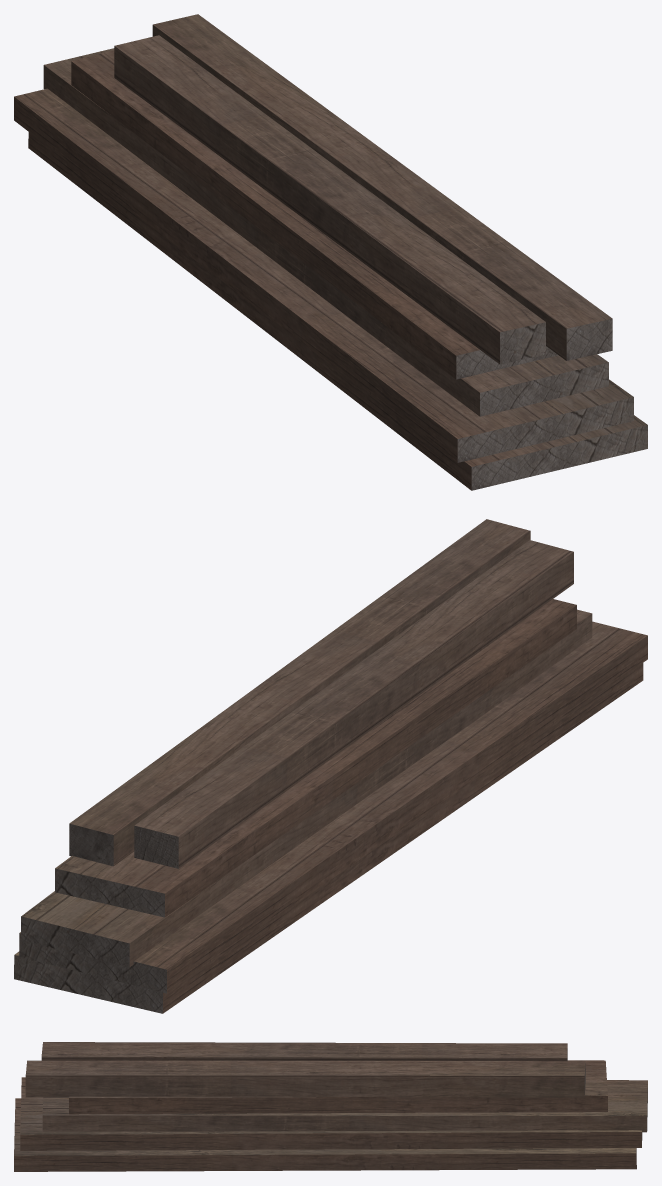
The model's file is jov_house01prop_wood2.fbx.
3 views of the same model, one above another, from view 1: azimuth 30°, elevation 25°; view 2: azimuth 150°, elevation 25°; view 3: azimuth 270°, elevation 25° (orthographic). The views are drawn at different scales.
Visible parts, largest first — view 1: jov_house01prop_wood2; view 2: jov_house01prop_wood2; view 3: jov_house01prop_wood2.
Boxes of the visible parts, <box> form: jov_house01prop_wood2: <box>14,14,647,490</box>; jov_house01prop_wood2: <box>14,519,647,1013</box>; jov_house01prop_wood2: <box>14,1042,647,1171</box>.
Size of the model in its own units: 53.58 by 36.62 by 237.
